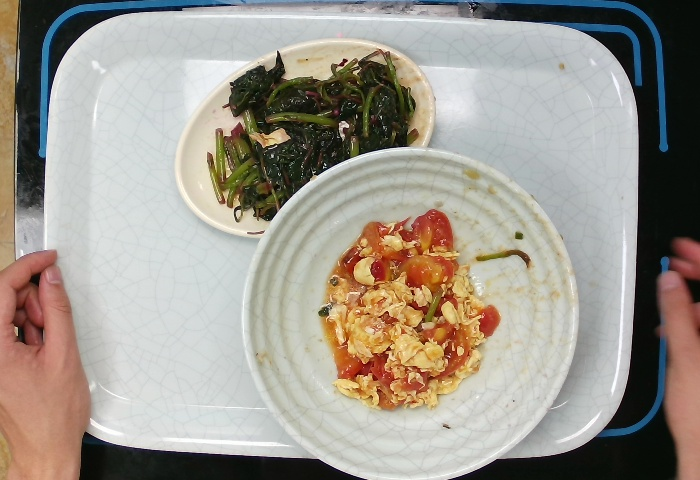JYsf-Da_Tang_Wan: (241, 144, 580, 480)
JYsf-Tuo_Yuan_Wan: (167, 32, 437, 241)
